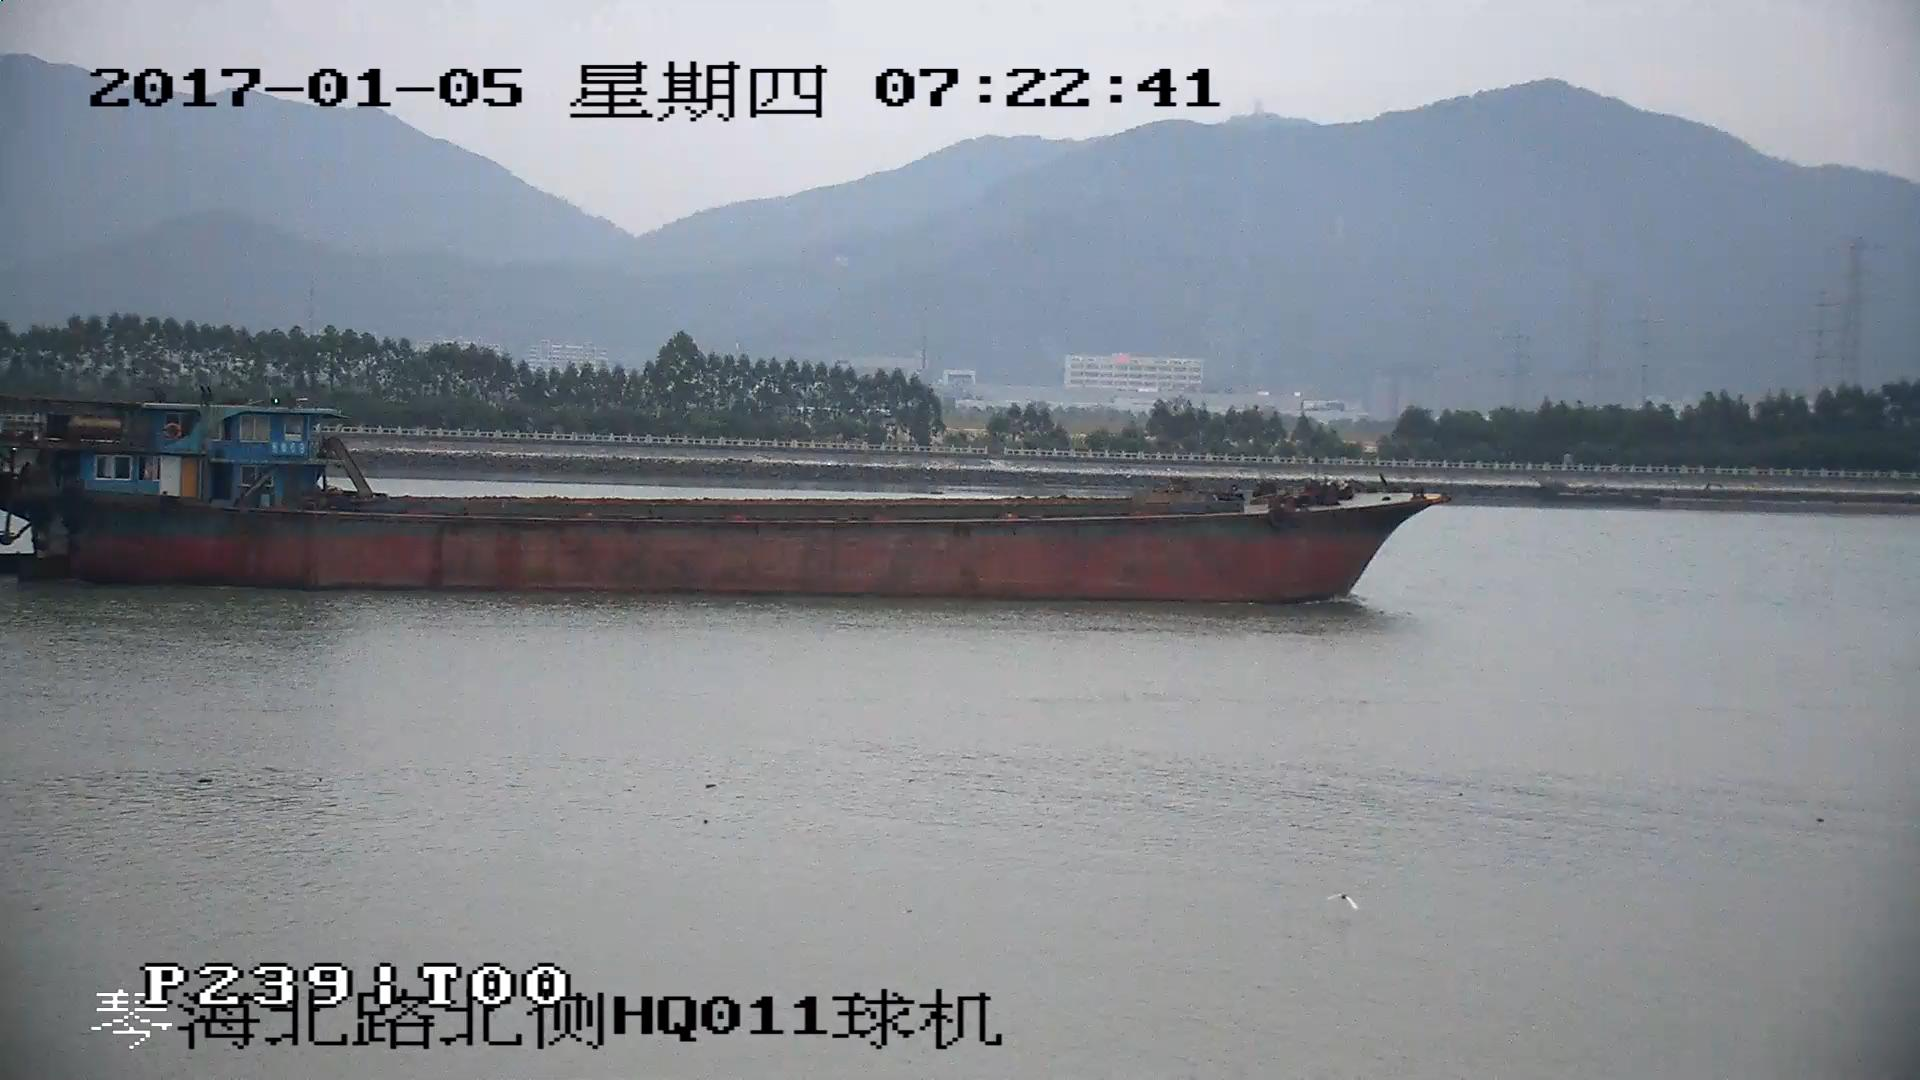bulk cargo carrier: (1, 404, 1445, 604)
